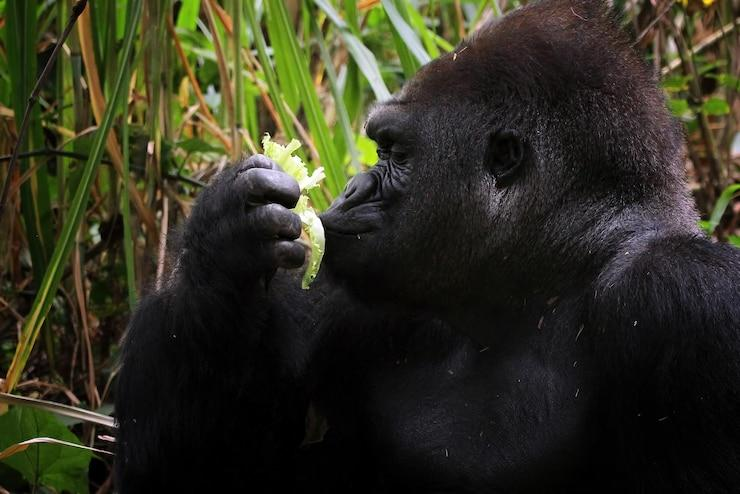gorille_Autres: (128, 0, 740, 494)
